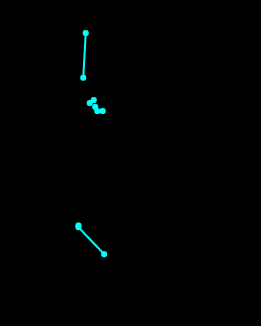warrior_1: (64, 28, 113, 264)
